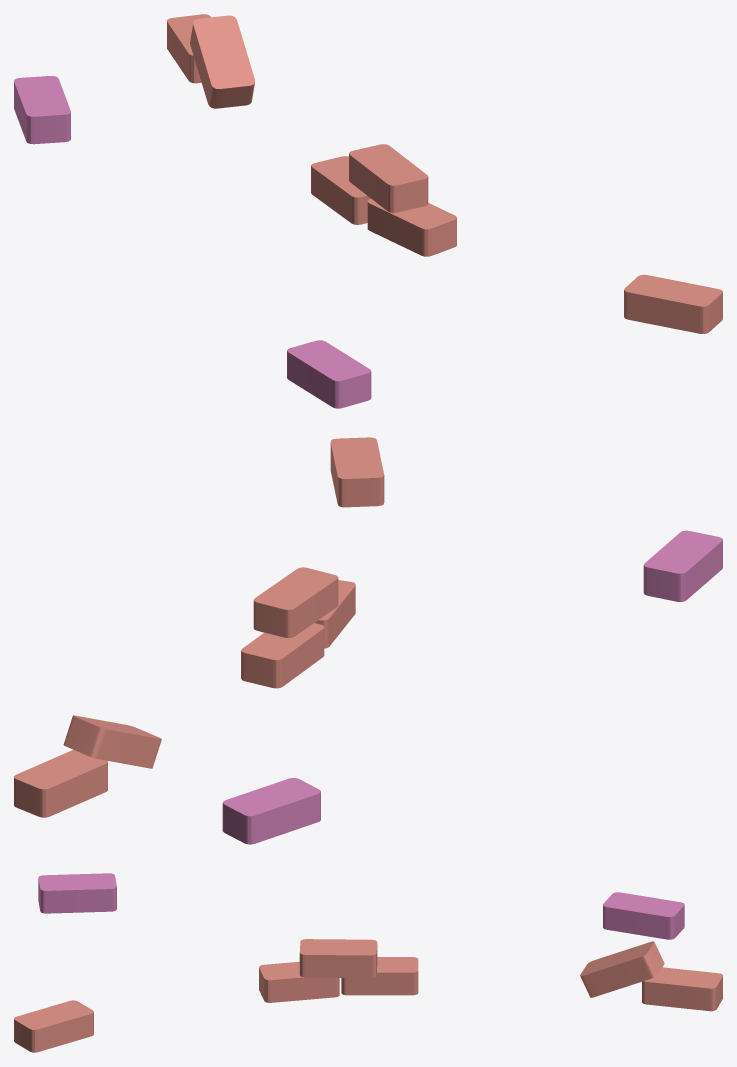
The model's file is hideandsmash_bricks.fbx.
3 views of the same model, one above another, from view 1: azimuth 30°, elevation 25°; view 2: azimuth 150°, elevation 25°; view 3: azimuth 270°, elevation 25° (orthographic). The views are drawn at different scales.
Parts seen in each view (by area): view 1: brick5, brick8, brick7, brick1, brick3, brick6, brick2, brick4; view 2: brick6, brick4, brick1, brick7, brick2, brick8, brick5, brick3; view 3: brick6, brick8, brick7, brick1, brick4, brick5, brick3, brick2.
Boxes of the visible parts, <box> form: brick5: <box>190,15,254,108</box>; brick8: <box>624,274,722,333</box>; brick7: <box>287,340,371,408</box>; brick1: <box>349,144,428,212</box>; brick3: <box>367,198,456,256</box>; brick6: <box>14,76,70,144</box>; brick2: <box>311,156,370,224</box>; brick4: <box>167,14,210,83</box>; brick6: <box>222,778,320,844</box>; brick4: <box>14,750,107,817</box>; brick1: <box>253,567,338,637</box>; brick7: <box>643,530,722,601</box>; brick2: <box>241,623,324,688</box>; brick8: <box>330,437,384,507</box>; brick5: <box>63,715,161,768</box>; brick3: <box>315,580,355,648</box>; brick6: <box>603,892,684,939</box>; brick8: <box>14,1000,93,1052</box>; brick7: <box>38,873,116,913</box>; brick1: <box>299,939,377,978</box>; brick4: <box>642,967,722,1011</box>; brick5: <box>580,941,664,997</box>; brick3: <box>259,961,339,1002</box>; brick2: <box>341,957,418,995</box>.
Bounding box in the file's own units: 31.31 × 4.67 × 59.83.
